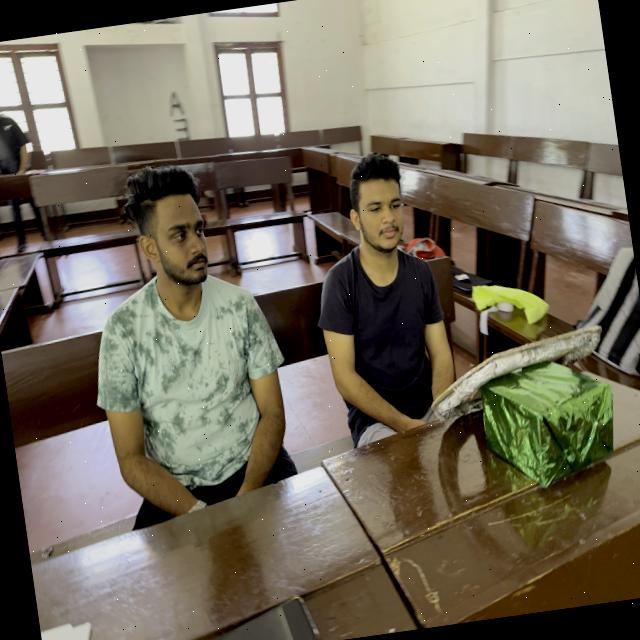no-seatbelt: (94, 272, 296, 532), (316, 240, 464, 460)
